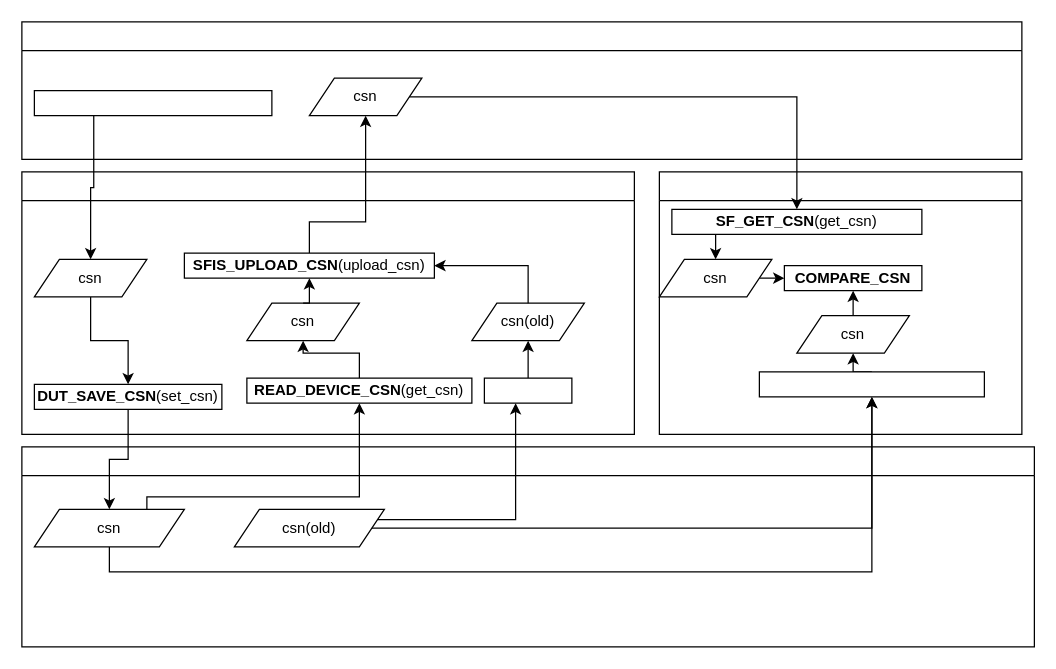
Some shapes in this 1056 by 669 pixel diagram are drawn without their labels. The box of each missing label's shape, as (x1, y1, x2, y2) in pixels:
DUT: (21, 446, 1034, 647)
FG: (658, 171, 1022, 434)
FUNCTION: (21, 171, 634, 434)
get_csn: (483, 377, 572, 403)
GRPC_SN_INFO (get_csn): (758, 371, 984, 397)
SF: (21, 21, 1022, 159)
SF_GET_CSN (SF arrange csn): (33, 89, 272, 116)
